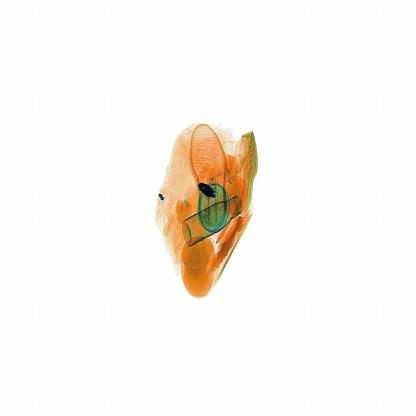scissors: (188, 177, 226, 202)
